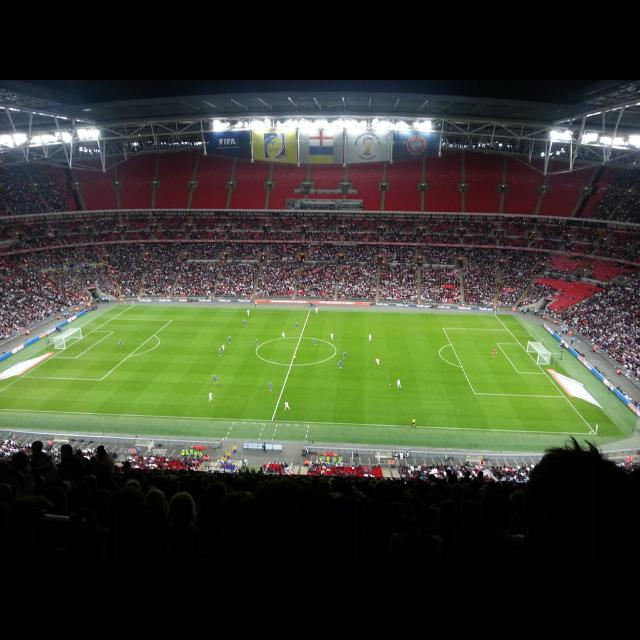Football: (388, 384, 392, 386)
